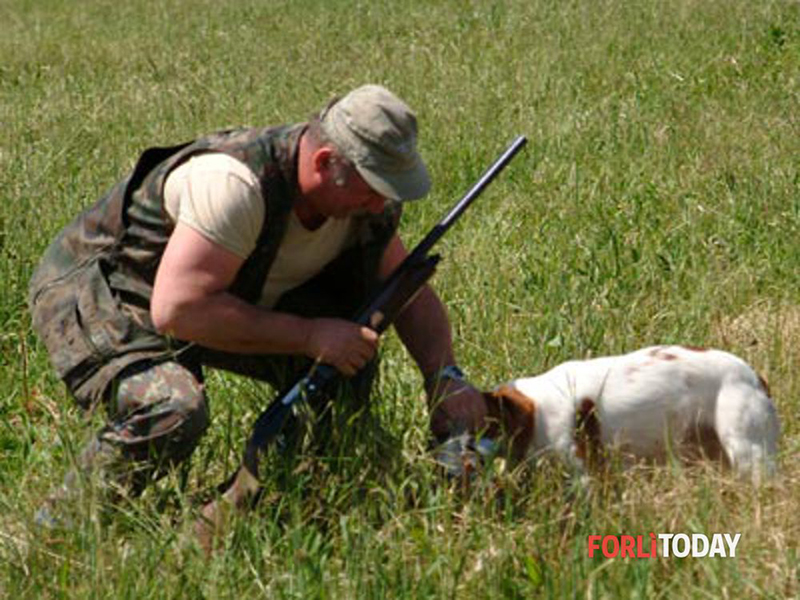cacciatore: (28, 64, 490, 500)
cane da caccia: (420, 335, 771, 476)
fucile: (220, 133, 528, 516)
